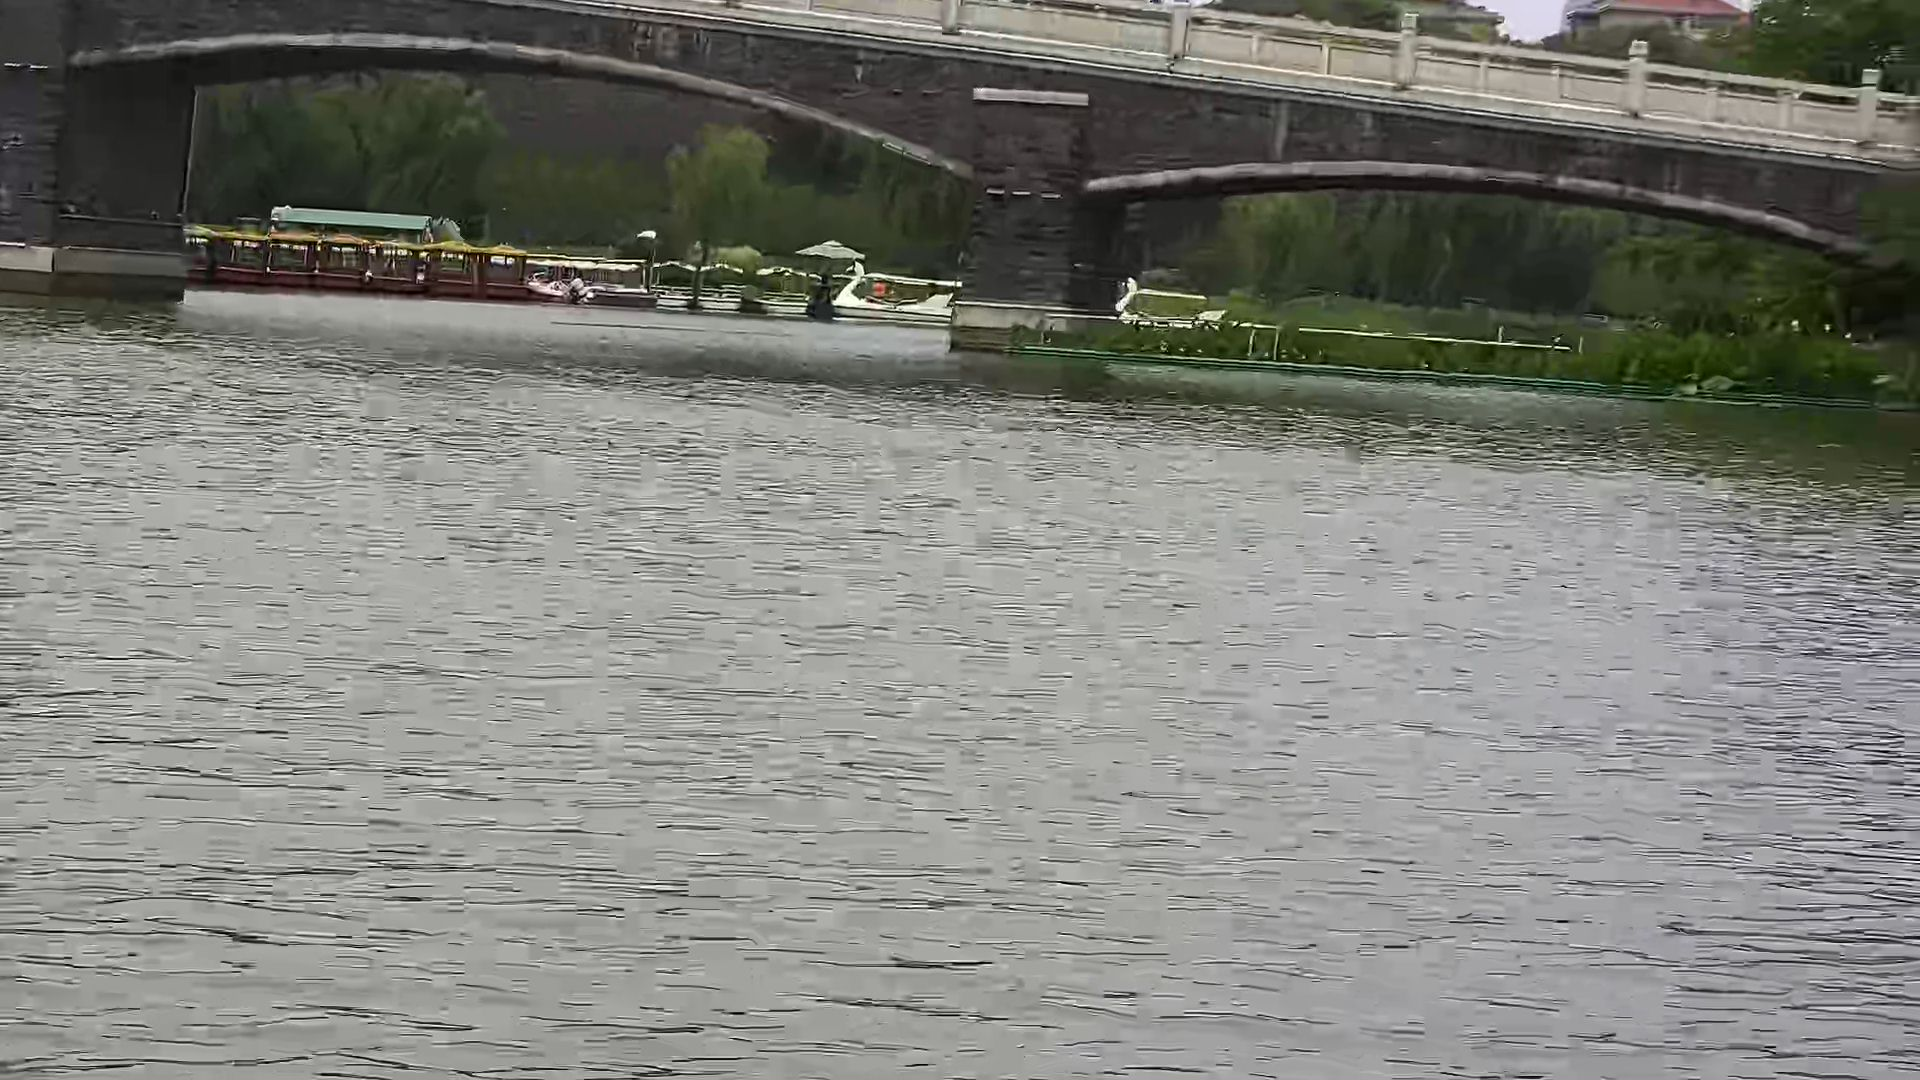bridge: (8, 7, 1908, 273)
harbor: (202, 199, 967, 332)
